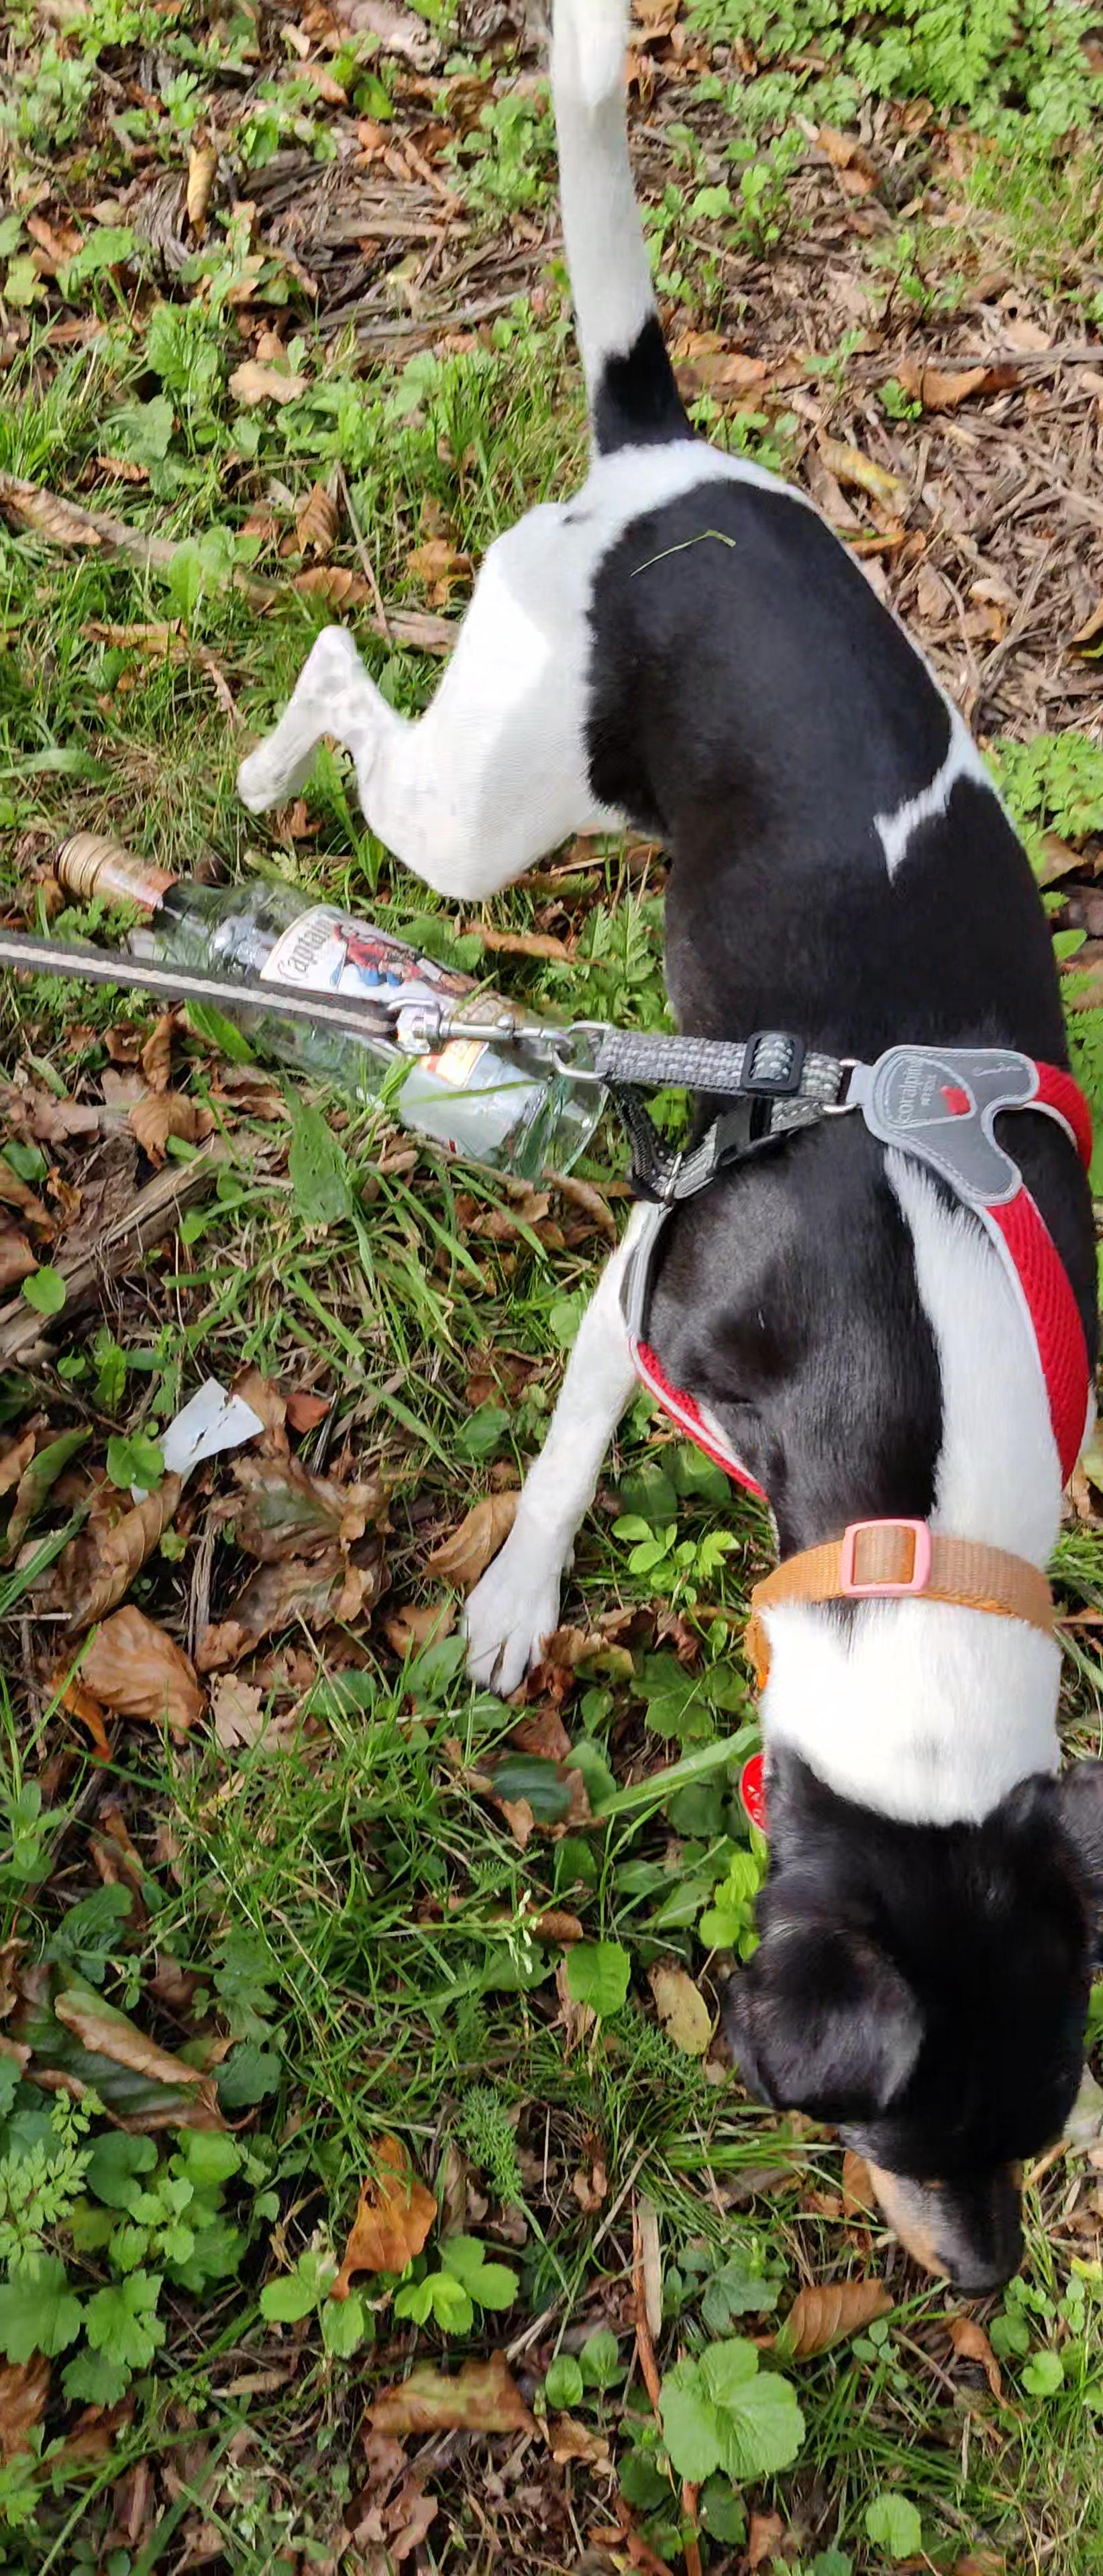Dog: (225, 0, 1103, 2308)
